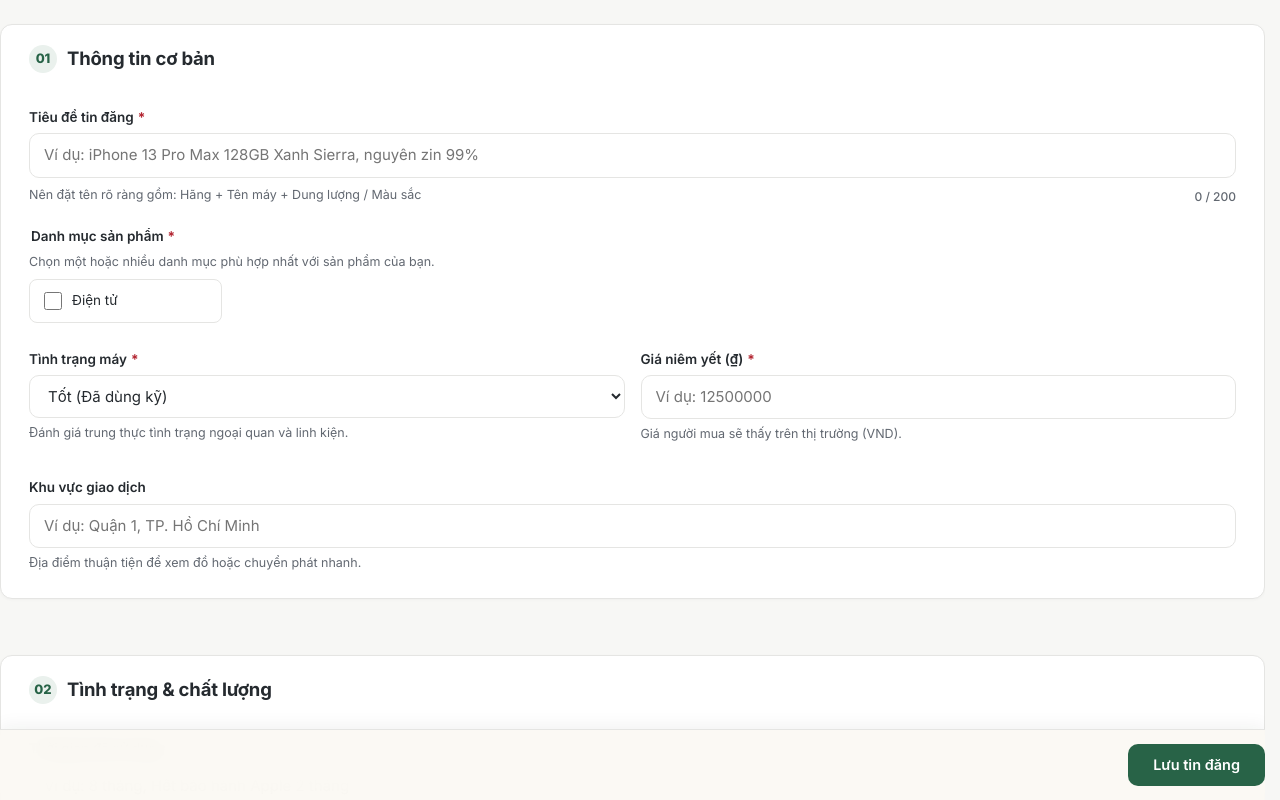
Test: ListingForm Component › validates required fields and rejects invalid submissions
Click the button "Lưu tin đăng": {"x": 1197, "y": 765} [1128,744,1265,786]
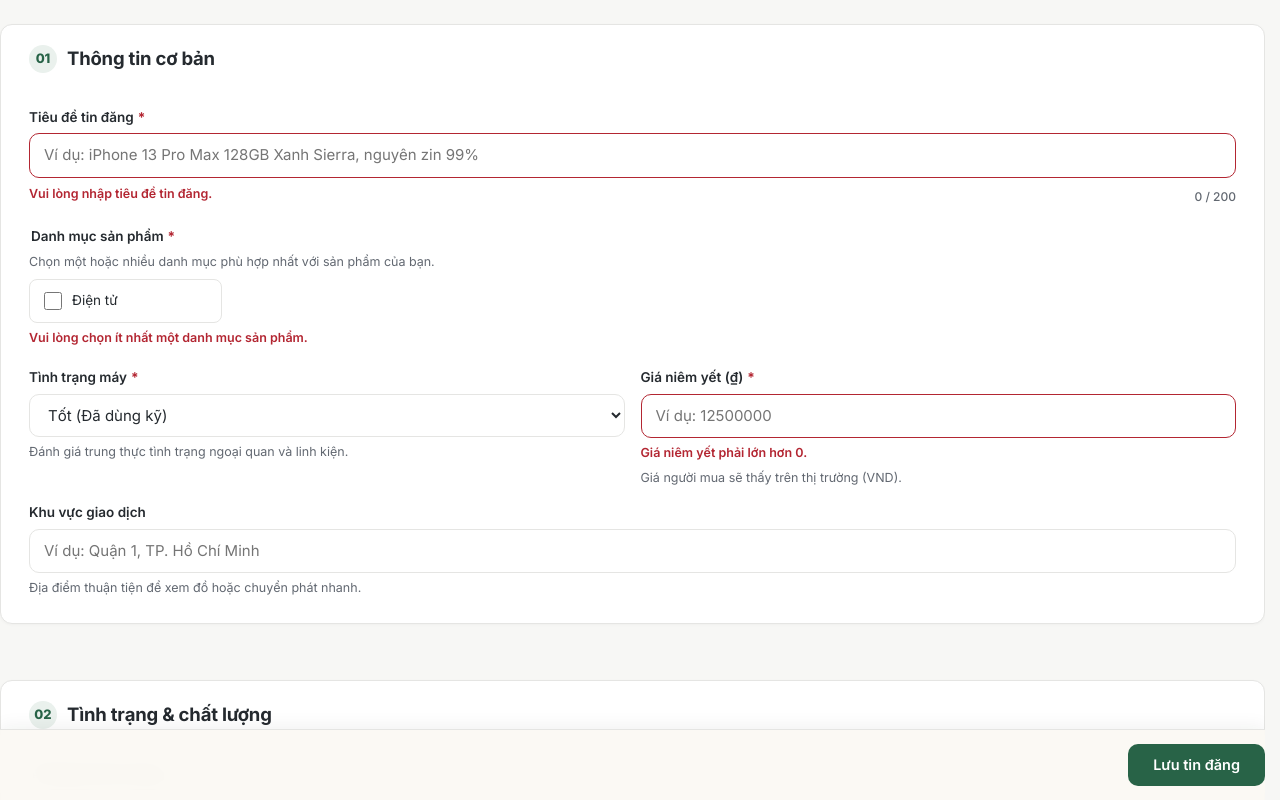
Expected: the text "Vui lòng nhập tiêu đề tin đăng." is shown, [29,185,212,204]
Expected: the text "Vui lòng chọn ít nhất một danh mục sản phẩm." is shown, [29,330,308,344]
Expected: the text "Giá niêm yết phải lớn hơn 0." is shown, [640,445,807,460]
